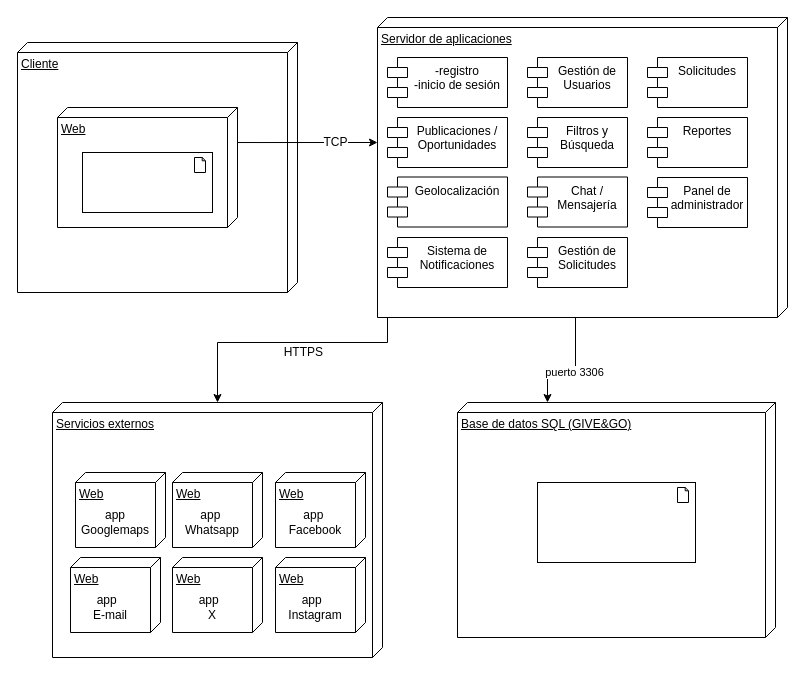
Image size: 805x675. Some labels were removed from this diagram. Each missing label, with the centre of its shape:
Frontend React / HTML: [147,182]
GIVE & GO SQL: [616,522]
